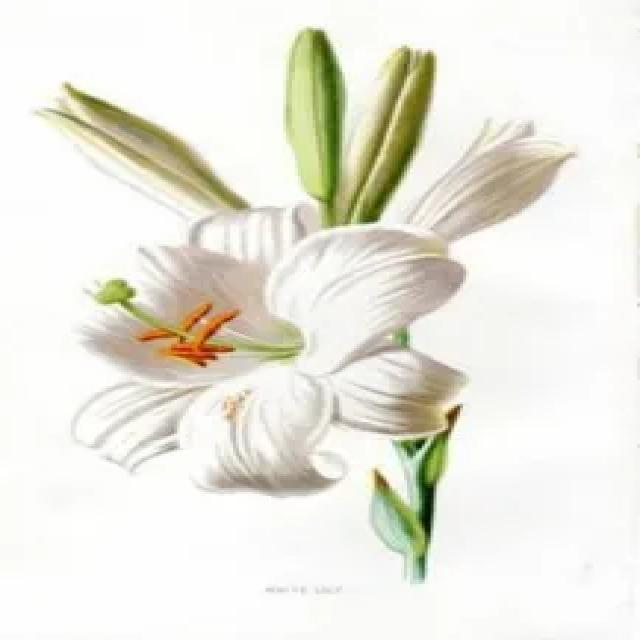lily: (38, 178, 491, 511)
